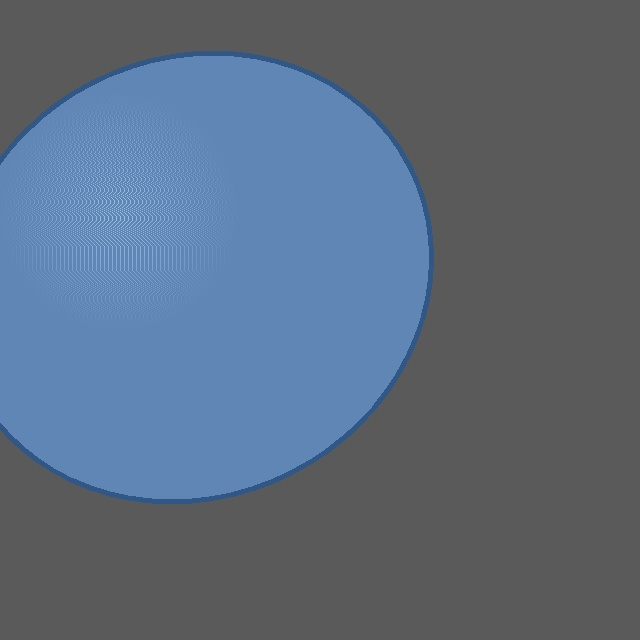lens: (0, 53, 430, 501)
